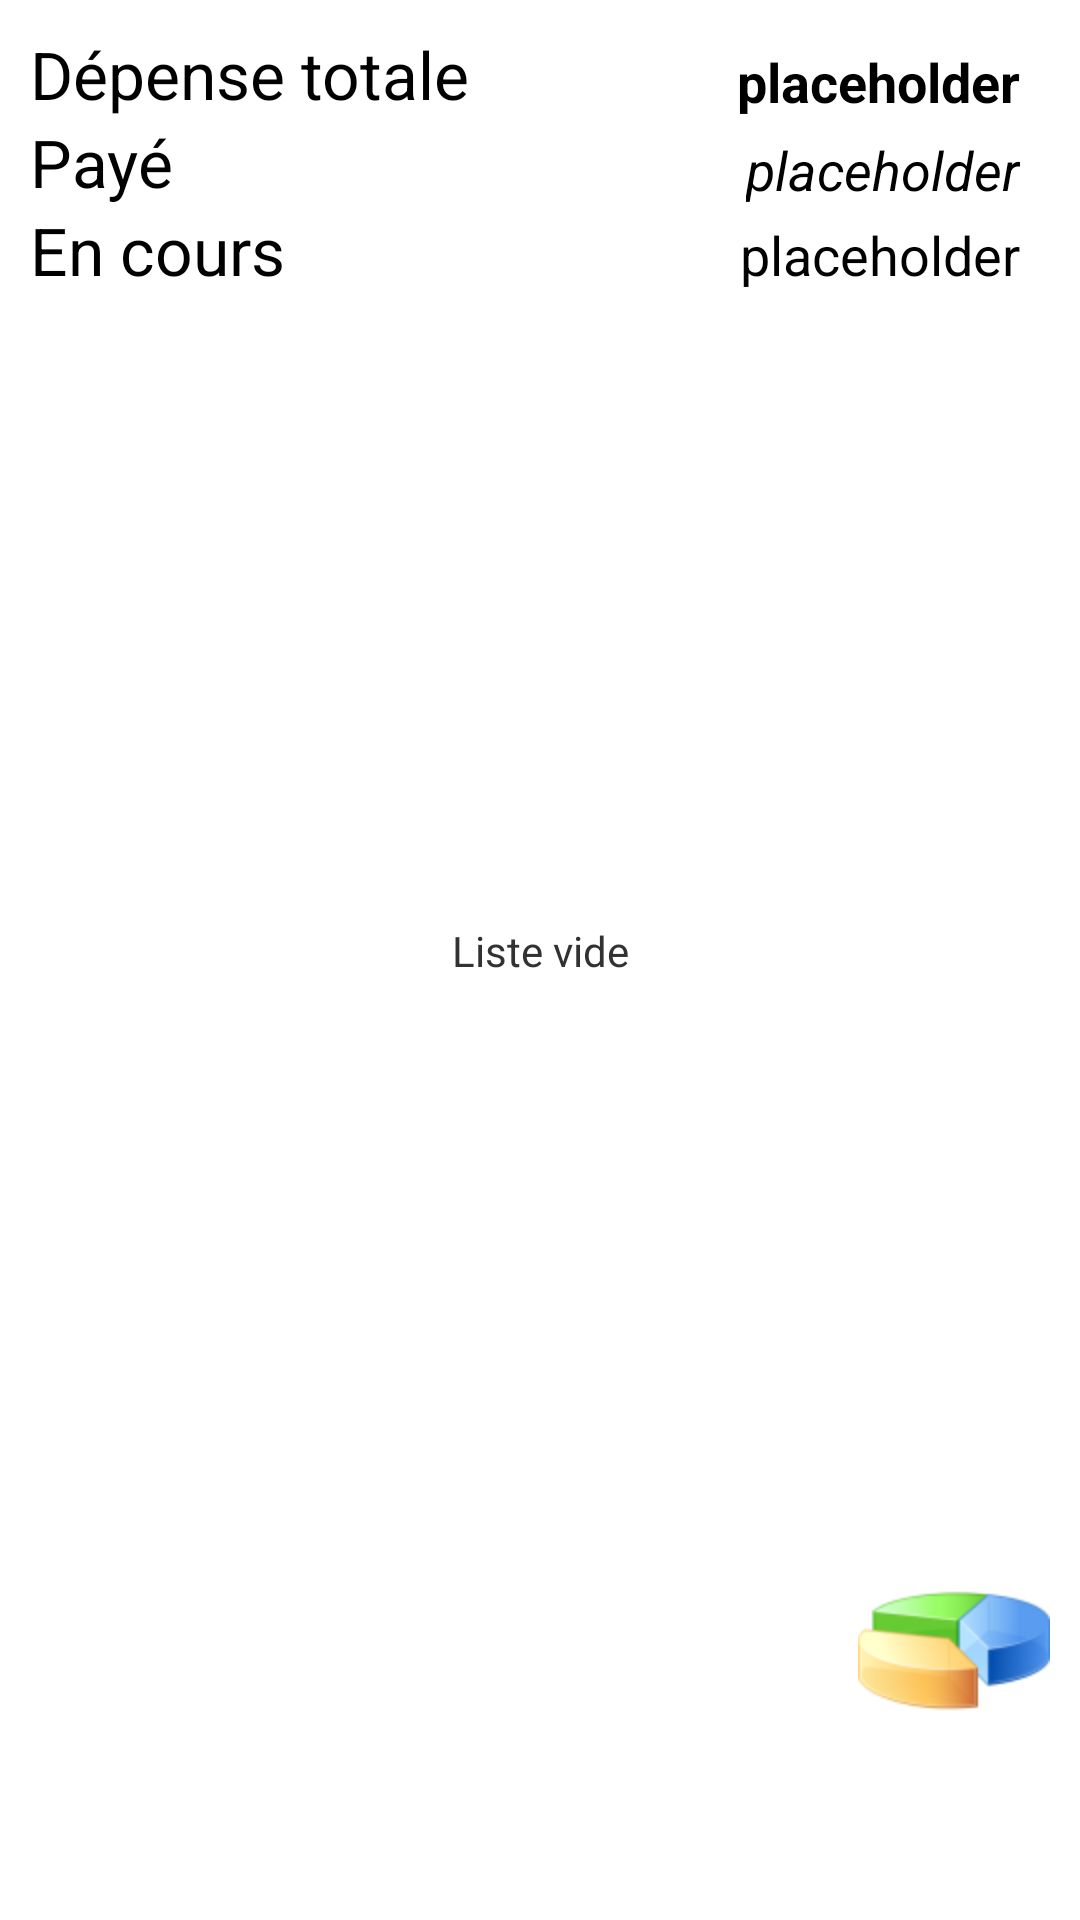

Named icons in this screenshot (1080 × 1920) and their centers, point (x, y):
pie chart: point (954, 1650)
